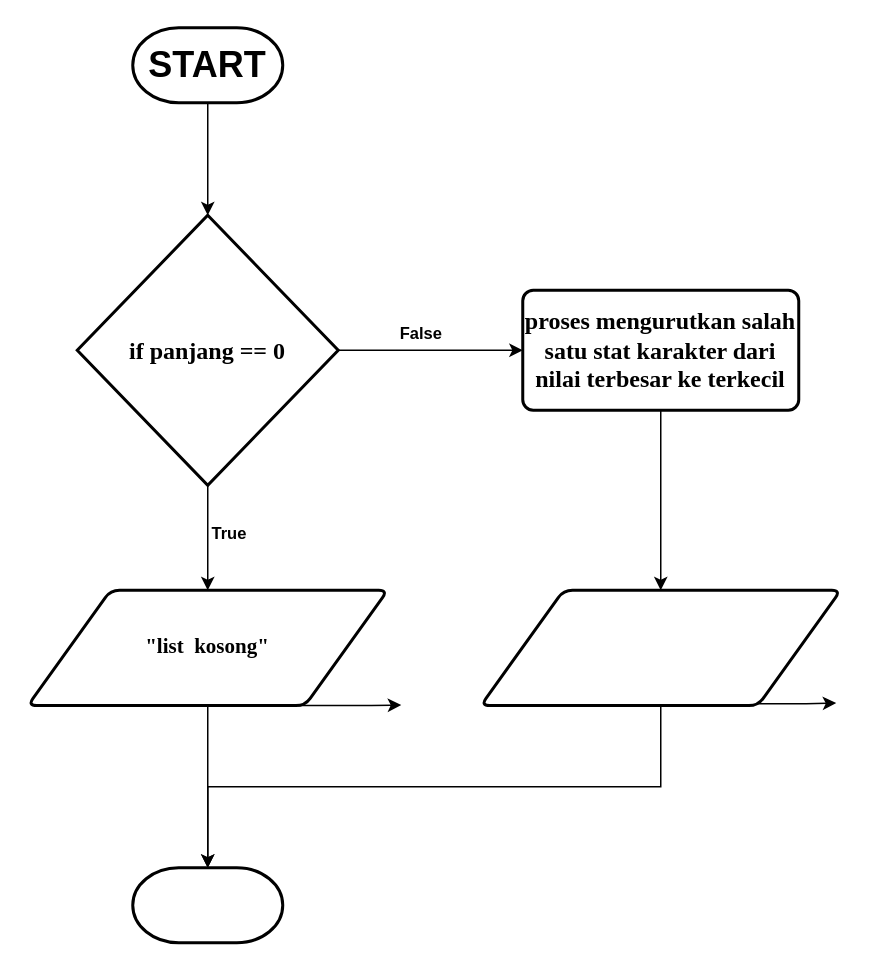
The diagram is 875 pixels wide and 969 high, and some of its shapes have lost their labels. Each missing label, with the centre of its shape:
"Sorting berhasil": [660,647]
STOP: [207,905]
